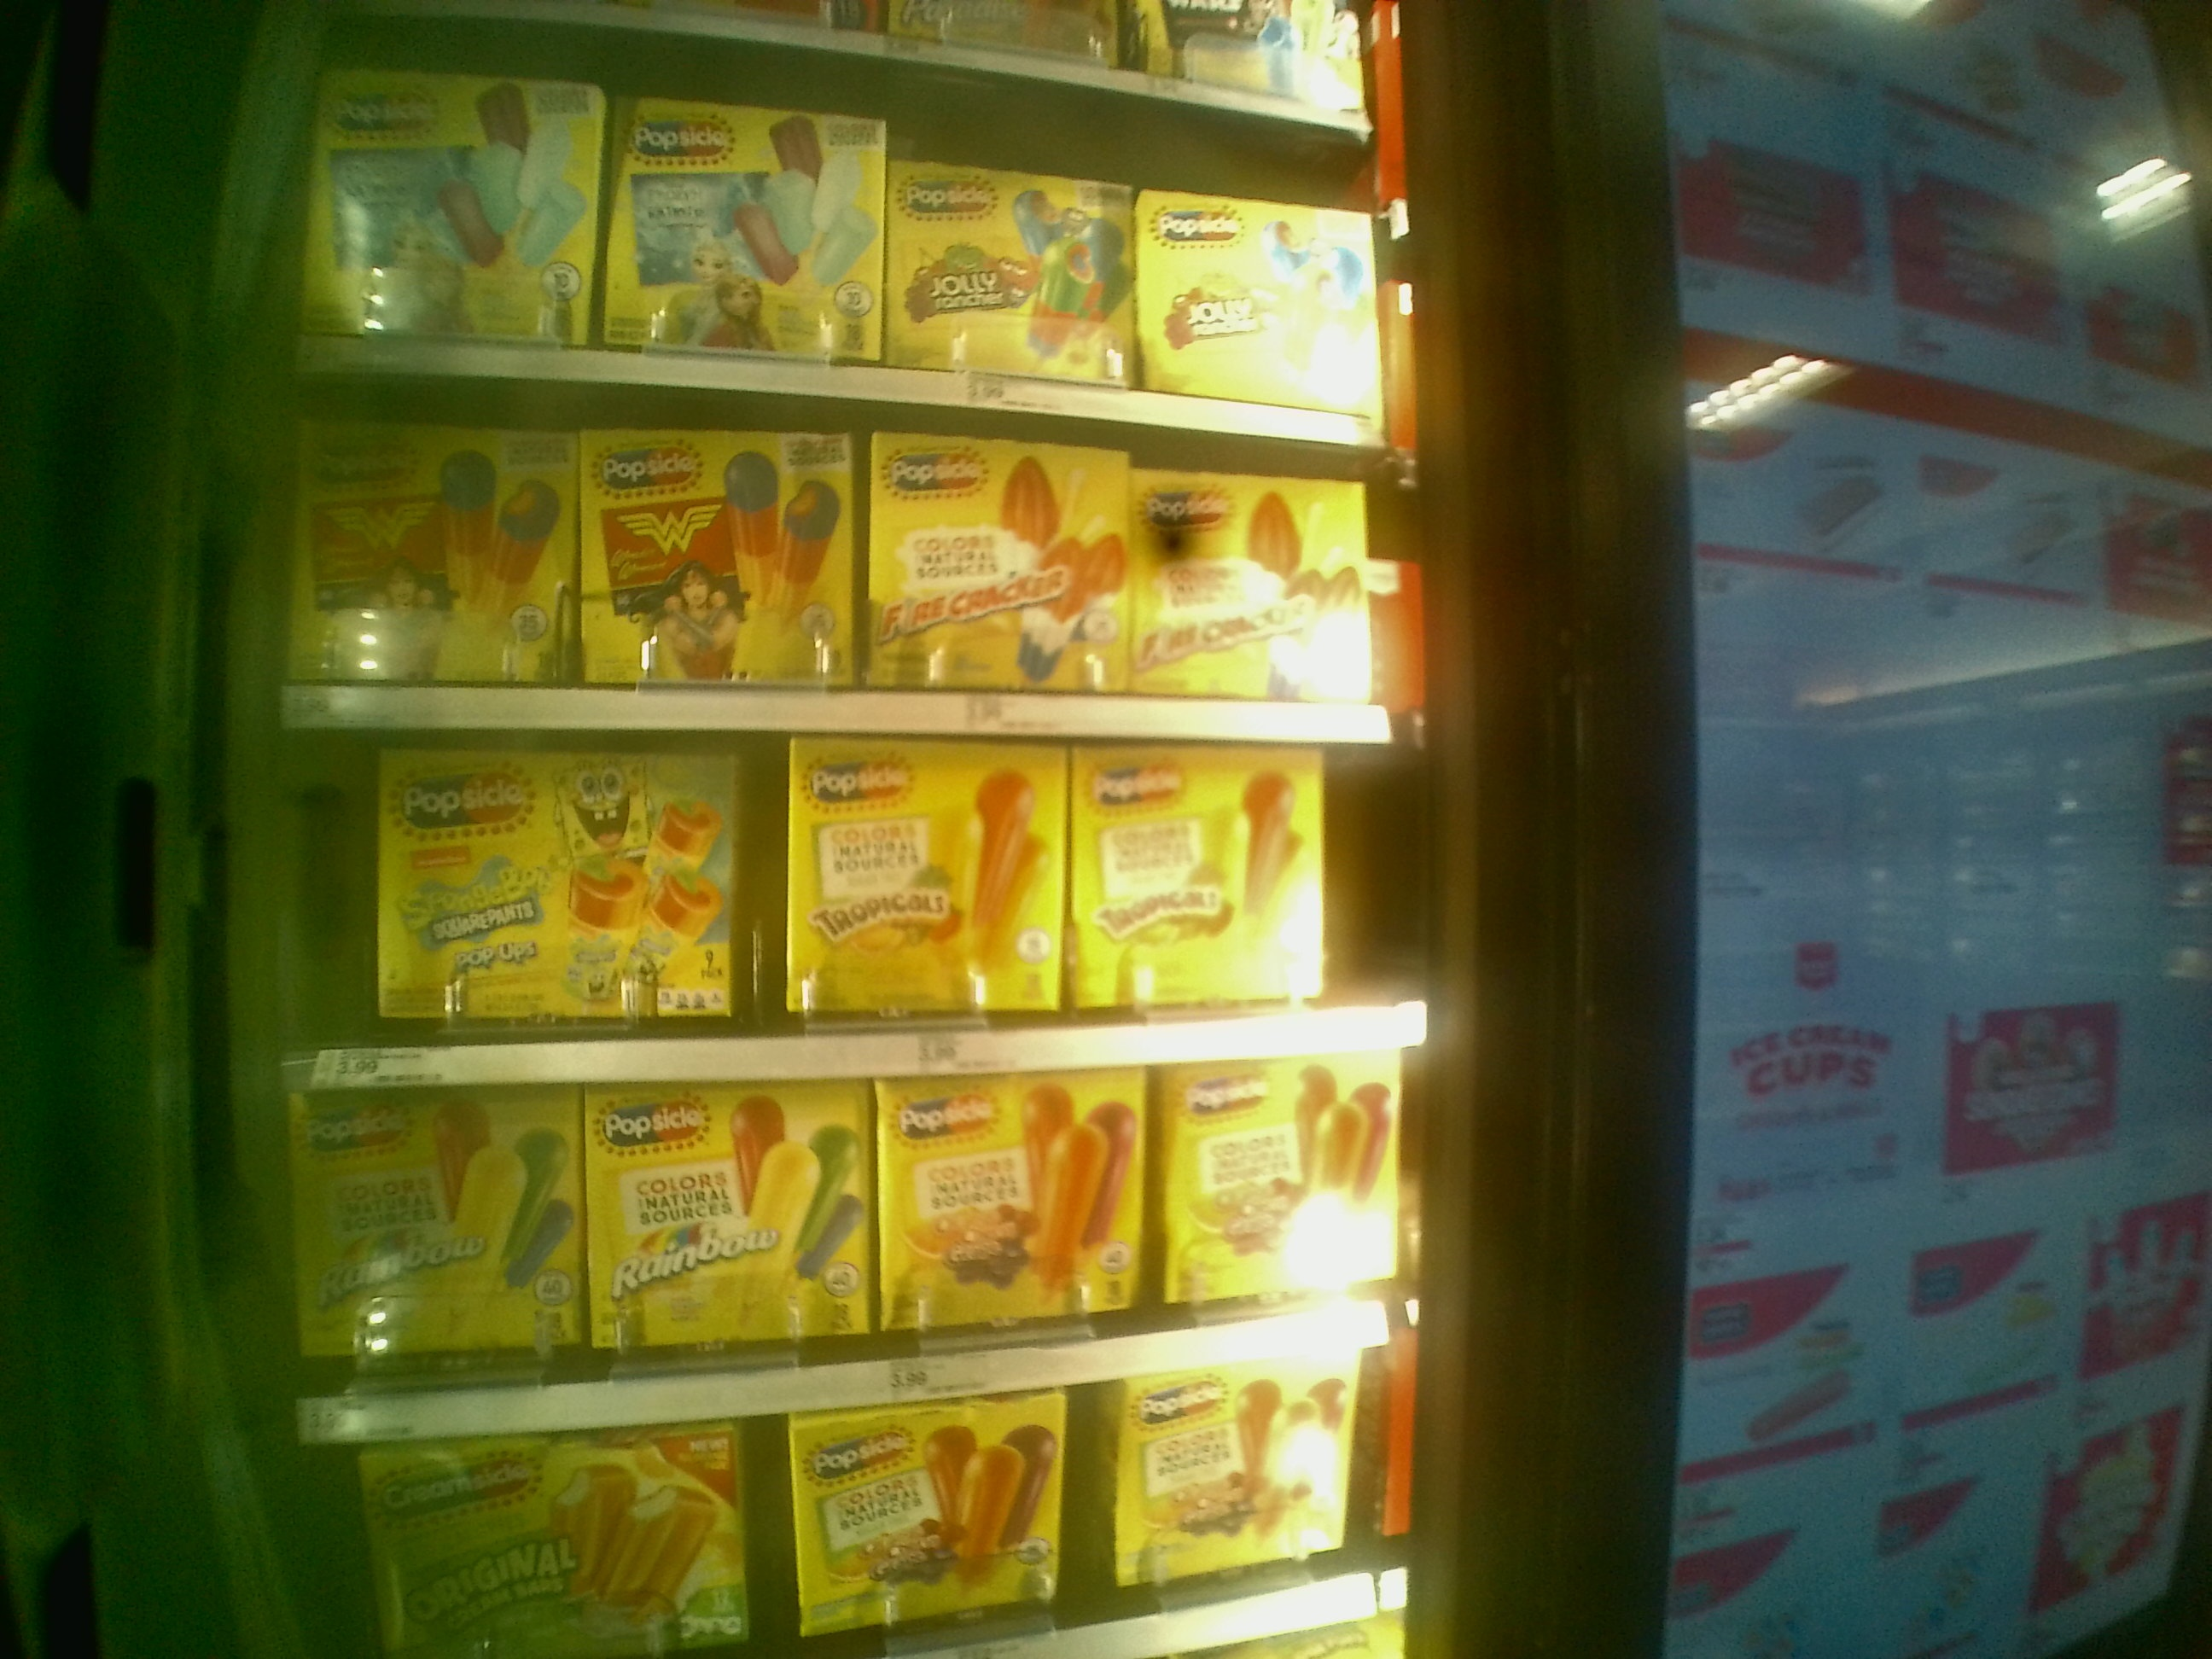shelf: (301, 375, 1426, 732), (301, 1061, 1411, 1417), (287, 734, 1439, 1054)
